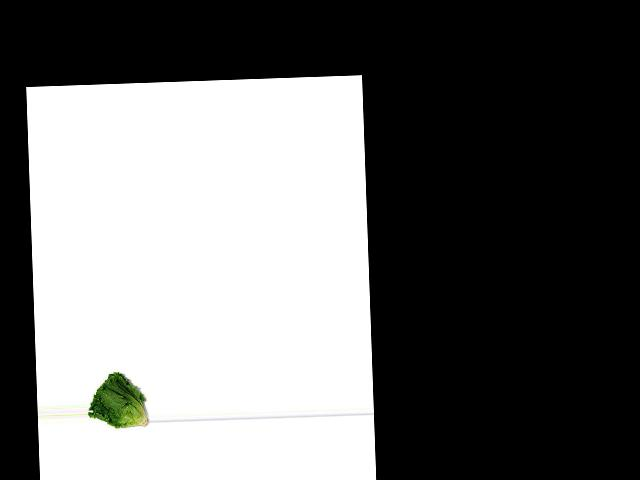lettuce: (86, 366, 150, 433)
